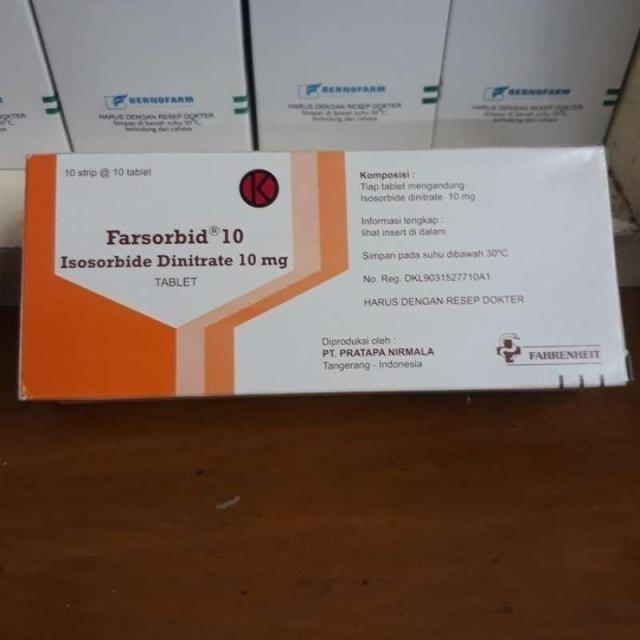drug-name: (102, 227, 248, 247)
